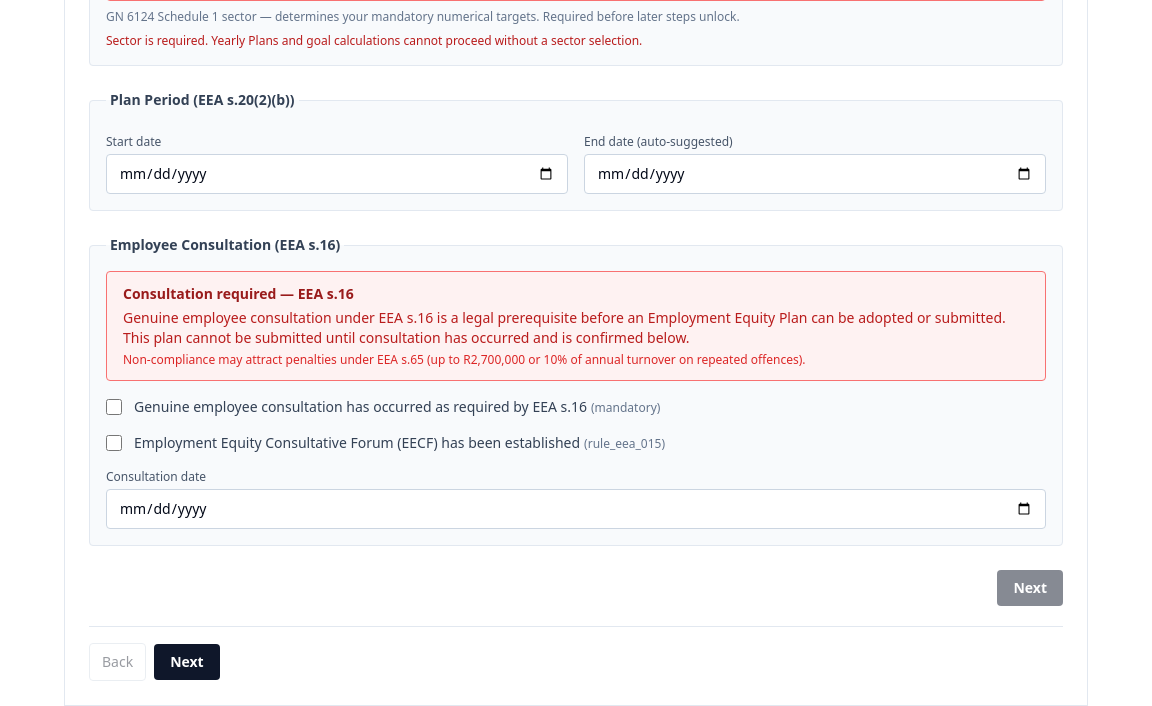
Test case: EEA13Form — consultation banner › banner reappears when consultedWithEmployees is unchecked again
(page scrolled)
Click the checkbox with test id "eea13-consulted-checkbox".
click(114, 407)  # box 106,399 -> 122,415
(page scrolled)
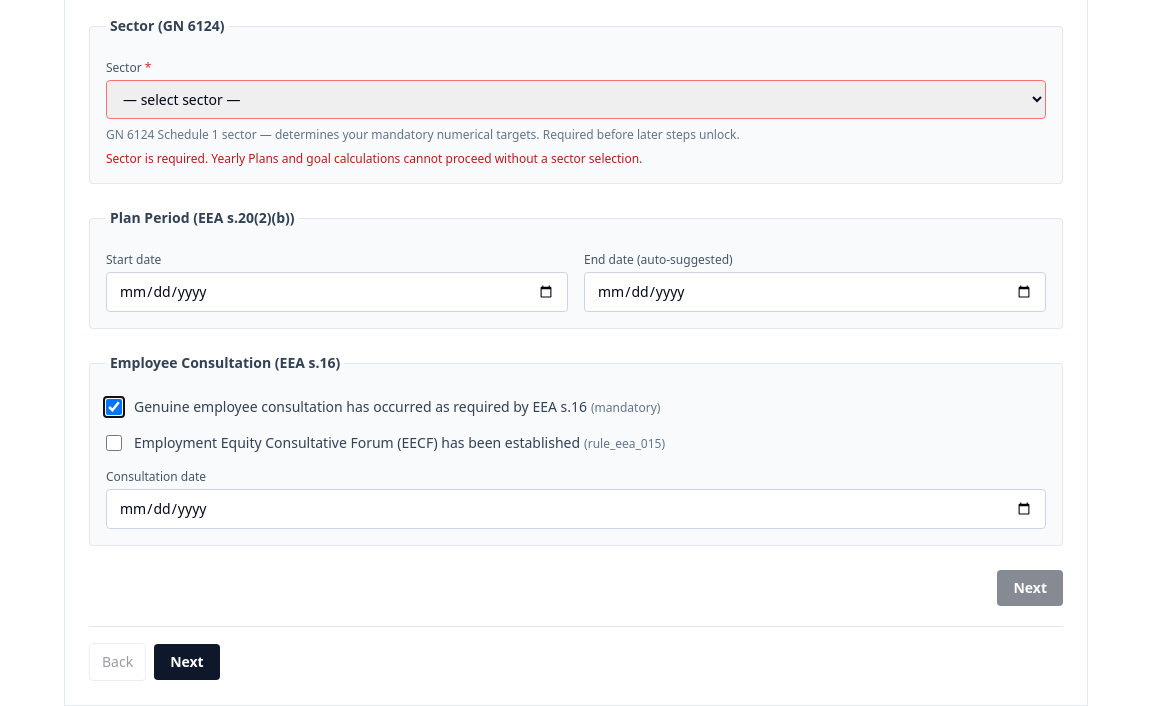
Result: the message with test id "eea13-consultation-banner" is gone
Click the checkbox with test id "eea13-consulted-checkbox".
click(114, 407)  # box 106,399 -> 122,415
(page scrolled)
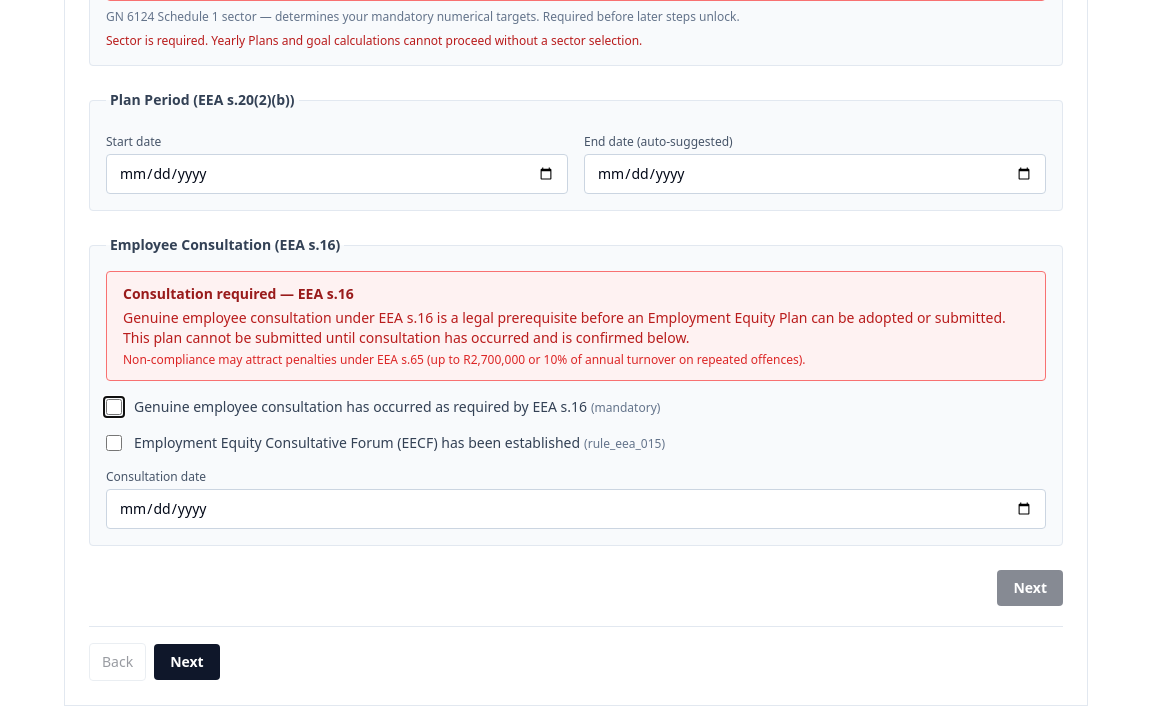
Result: the message with test id "eea13-consultation-banner" is shown at 106,271 -> 1046,381
